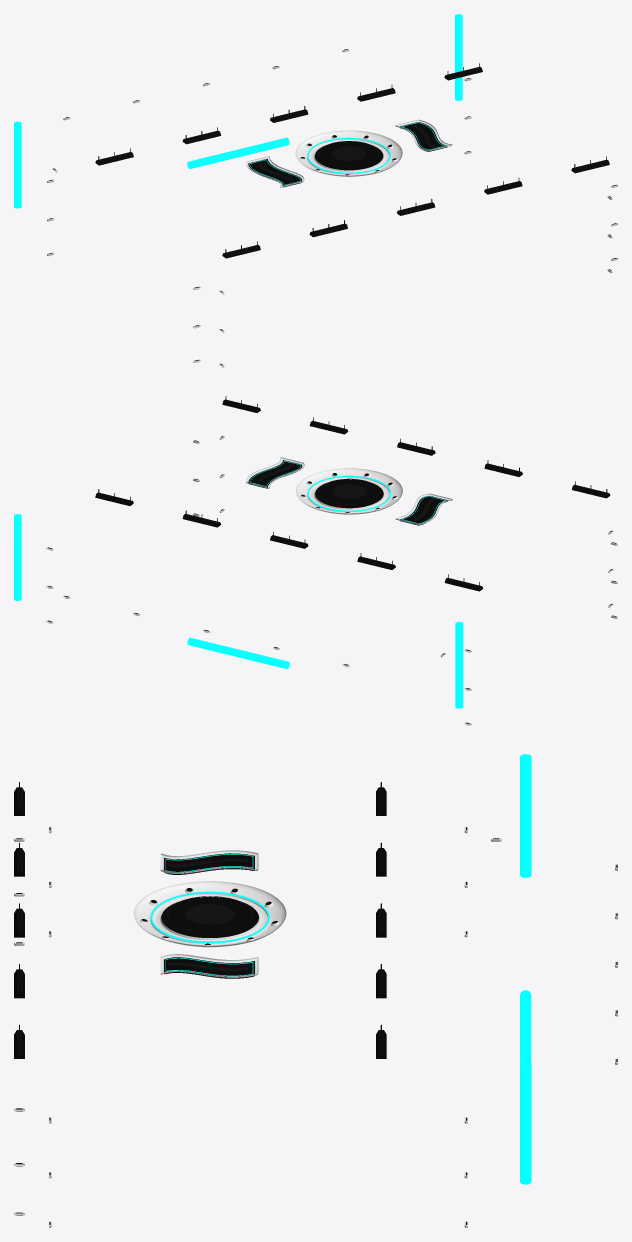
File: lamps.FBX
The picture shows the model from 3 angles, top to bottom: view 1: azimuth 30°, elevation 25°; view 2: azimuth 150°, elevation 25°; view 3: azimuth 270°, elevation 25°; orthographic projection. The views are drawn at different scales.
Parts seen in each view (by area): view 1: ceiling_lights_body, ceiling_lights_1, ceiling_lights_body3, CylinderLight003, CylinderLight001, CylinderLight002, ceiling_lights_body2, ceilig_lamps; view 2: ceiling_lights_body, ceiling_lights_1, ceiling_lights_body3, CylinderLight003, CylinderLight001, CylinderLight002, ceiling_lights_body2, ceilig_lamps, wall_lights_body; view 3: ceiling_lights_1, ceiling_lights_body3, ceiling_lights_body, CylinderLight002, CylinderLight001, ceiling_lights_body2, ceilig_lamps, CylinderLight003, ceiling_lights_2, wall_lights_body.
Boxes of the visible parts, x1,y1,x2,y2 form: ceiling_lights_body: (95,63,609,258); ceiling_lights_1: (248,122,447,187); ceiling_lights_body3: (295,130,402,176); CylinderLight003: (187,137,289,168); CylinderLight001: (14,121,21,208); CylinderLight002: (455,14,462,100); ceiling_lights_body2: (246,119,452,187); ceilig_lamps: (302,136,390,166); ceiling_lights_body: (95,396,610,591); ceiling_lights_1: (248,460,447,525); ceiling_lights_body3: (296,468,402,514); CylinderLight003: (187,637,289,668); CylinderLight001: (455,621,463,708); CylinderLight002: (14,514,21,600); ceiling_lights_body2: (246,457,452,525); ceilig_lamps: (302,478,379,512); wall_lights_body: (46,435,617,725); ceiling_lights_1: (141,853,277,978); ceiling_lights_body3: (134,881,286,947); ceiling_lights_body: (14,782,386,1058); CylinderLight002: (520,1061,531,1184); CylinderLight001: (520,754,531,877); ceiling_lights_body2: (160,850,258,977); ceilig_lamps: (167,889,269,943); CylinderLight003: (520,990,531,1062); ceiling_lights_2: (150,891,269,943); wall_lights_body: (14,826,617,1227).
Bounding box in the file's own units: 25.67 × 6.57 × 21.03.
